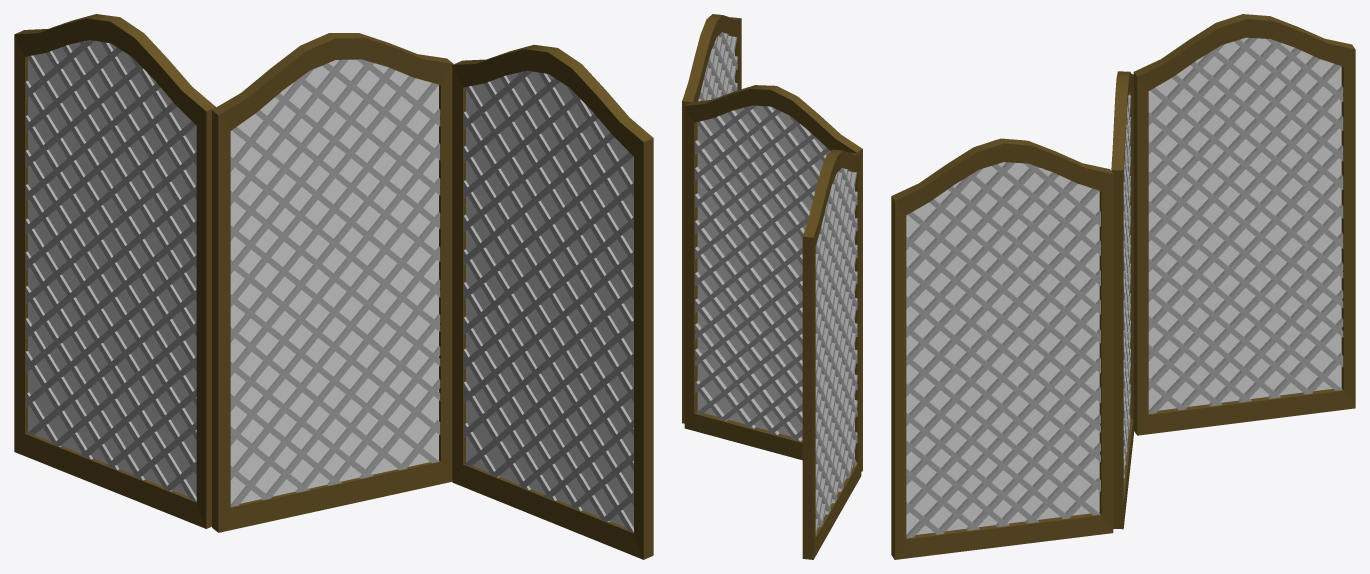
The model's file is Mesh_Dressing_Var1.fbx.
3 views of the same model, side by side, from view 1: azimuth 30°, elevation 25°; view 2: azimuth 150°, elevation 25°; view 3: azimuth 270°, elevation 25° (orthographic). The views are drawn at different scales.
Parts seen in each view (by area): view 1: Vestidor1; view 2: Vestidor1; view 3: Vestidor1.
Boxes of the visible parts, x1,y1,x2,y2 form: Vestidor1: [14, 14, 653, 559]; Vestidor1: [682, 14, 862, 559]; Vestidor1: [891, 14, 1355, 559].
Size of the model in its own units: 525 by 630 by 658.
